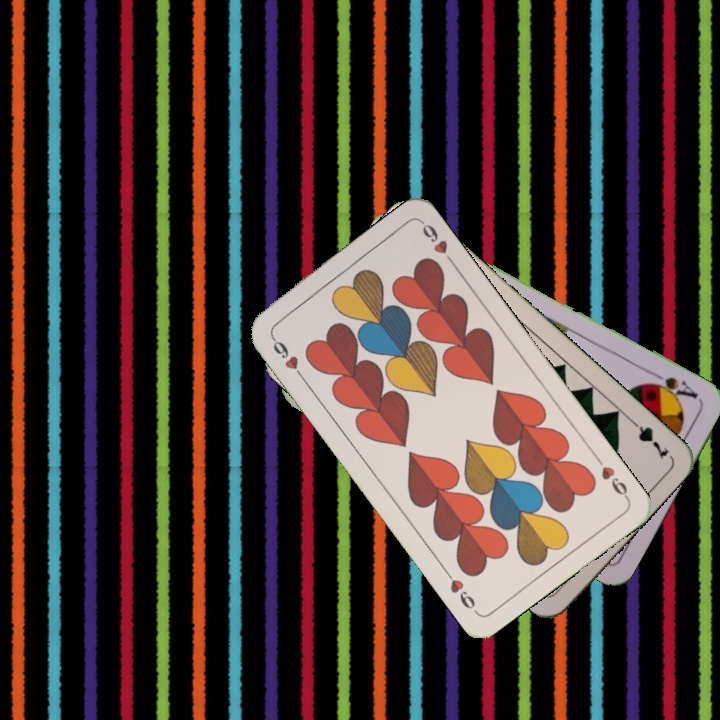G7: (624, 413, 672, 462)
H9: (591, 452, 632, 503), (266, 331, 307, 382)
SA: (645, 367, 701, 402)
